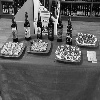beer: (24, 9, 32, 39)
